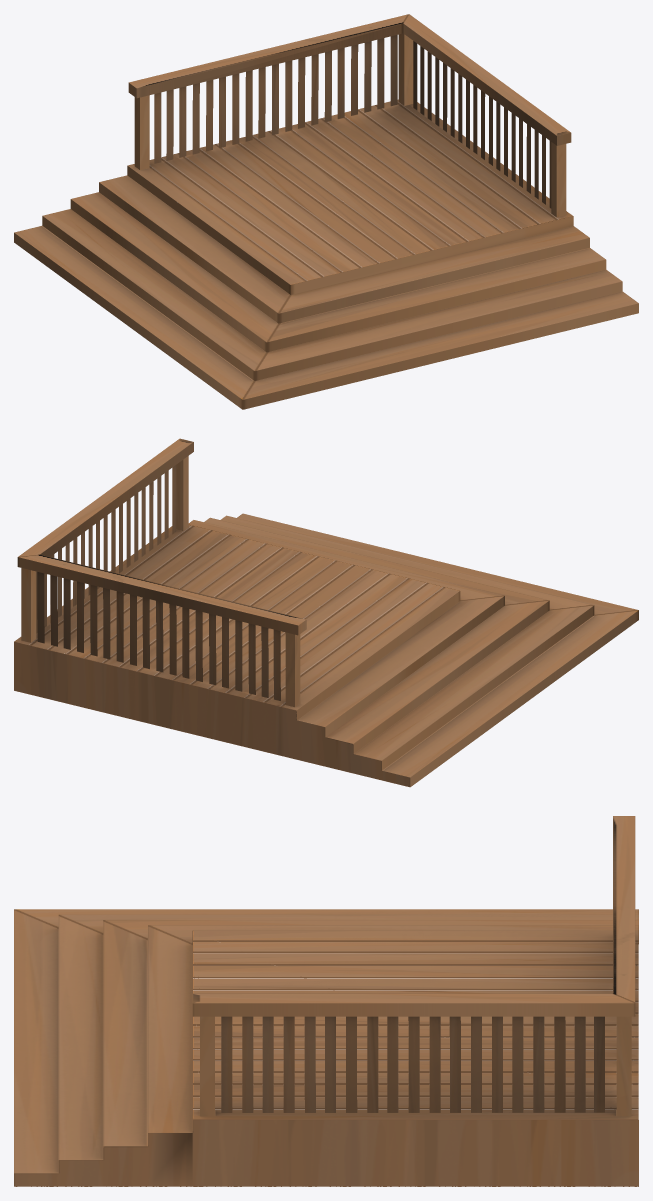
Rendered from deck.FBX.
3 renders of one model, top to bottom at view 1: azimuth 30°, elevation 25°; view 2: azimuth 150°, elevation 25°; view 3: azimuth 270°, elevation 25°, orthographic. The views are drawn at different scales.
Visible parts, largest first — view 1: Deck; view 2: Deck; view 3: Deck.
Boxes of the visible parts, <box> form: Deck: <box>14,14,638,409</box>; Deck: <box>14,438,638,787</box>; Deck: <box>14,816,638,1186</box>.
Size of the model in its own units: 42 by 13.5 by 42.
